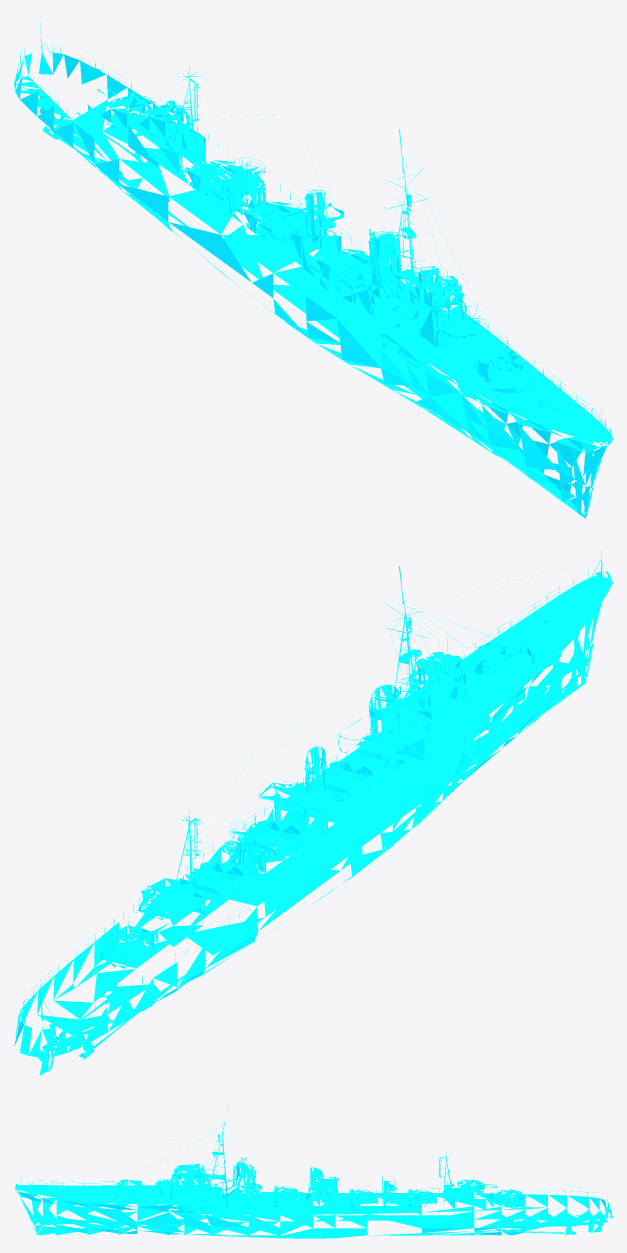
Rendered from PJSD012.glb.
The picture shows the model from 3 angles, top to bottom: view 1: azimuth 30°, elevation 25°; view 2: azimuth 150°, elevation 25°; view 3: azimuth 270°, elevation 25°; orthographic projection. The views are drawn at different scales.
Visible parts, largest first — view 1: hull, turret; view 2: hull, turret; view 3: hull, turret.
Boxes of the visible parts, x1,y1,x2,y2 form: hull: [14, 16, 612, 518]; turret: [97, 87, 526, 382]; hull: [14, 551, 612, 1075]; turret: [97, 634, 526, 965]; hull: [14, 1104, 612, 1238]; turret: [102, 1179, 536, 1206].
Size of the model in its own units: 0.8572 by 2.07 by 8.56.
